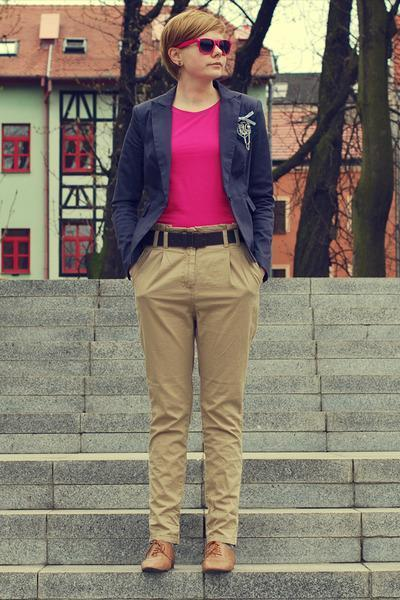jacket: (94, 90, 285, 282)
pants: (112, 236, 263, 548)
shirt: (160, 108, 233, 227)
shoe: (132, 532, 238, 572)
sunglass: (204, 39, 240, 73)
